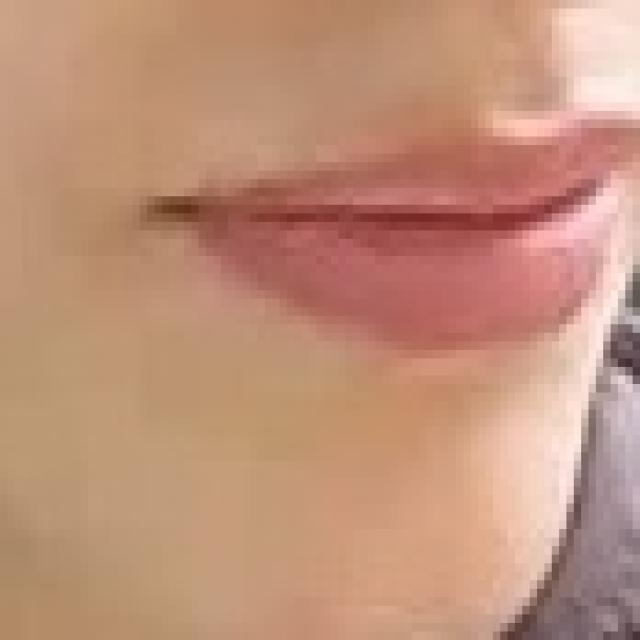closed-mouth: (140, 102, 632, 350)
